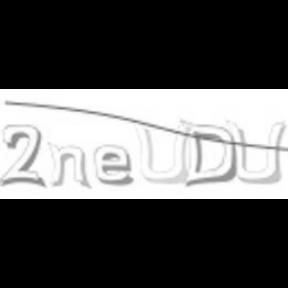2: (1, 124, 45, 188)
D: (179, 122, 235, 186)
U: (132, 118, 194, 188), (225, 117, 284, 185)
e: (92, 144, 134, 188)
n: (46, 140, 92, 190)
